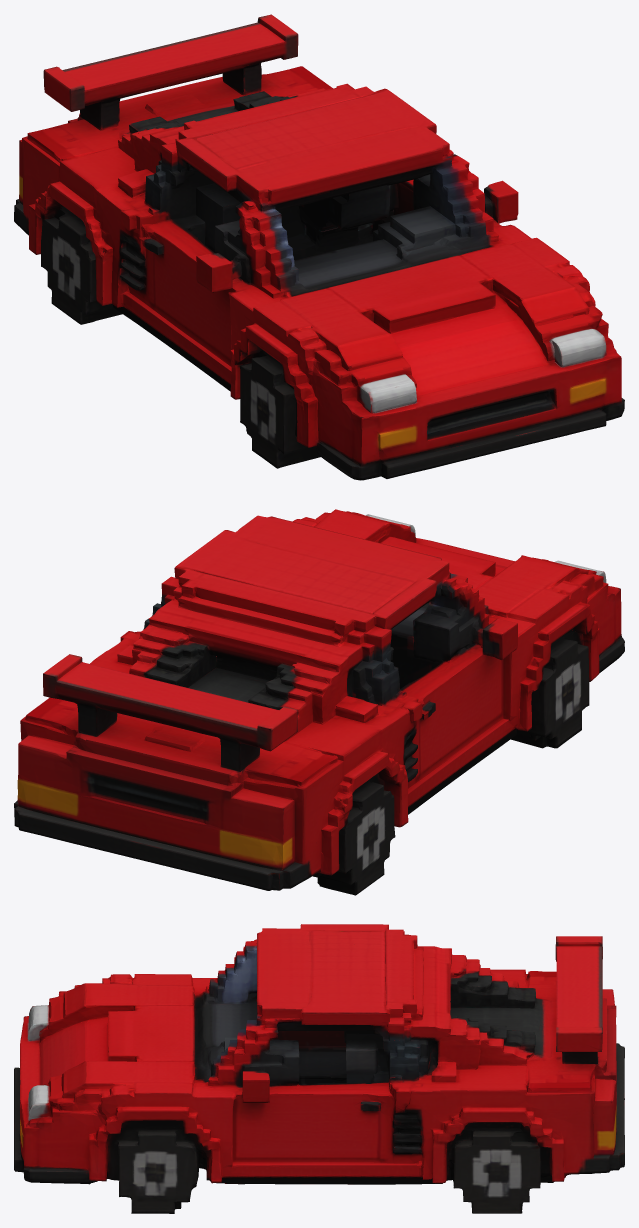
Rendered from sportscar.glb.
3 views of the same model, one above another, from view 1: azimuth 30°, elevation 25°; view 2: azimuth 150°, elevation 25°; view 3: azimuth 270°, elevation 25° (orthographic). The views are drawn at different scales.
Visible parts, largest first — view 1: geometry_0.009; view 2: geometry_0.009; view 3: geometry_0.009.
Boxes of the visible parts, box(x1,y1,x2,y2) form: geometry_0.009: box(14, 14, 624, 480); geometry_0.009: box(14, 509, 624, 895); geometry_0.009: box(14, 924, 624, 1213).
Bounding box in the file's own units: 0.5041 × 0.3277 × 1.
1 material, 1 textured.
